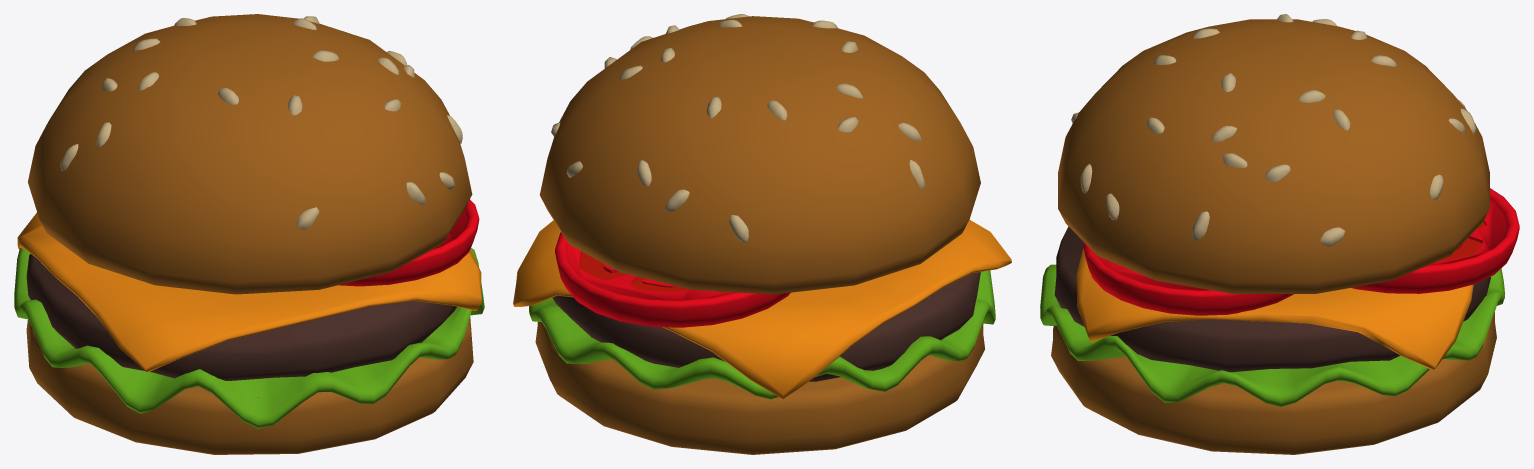
File: full_burg.fbx
The picture shows the model from 3 angles, left to right: view 1: azimuth 30°, elevation 25°; view 2: azimuth 150°, elevation 25°; view 3: azimuth 270°, elevation 25°; orthographic projection.
Visible parts, largest first — view 1: Sphere.001; view 2: Sphere.001; view 3: Sphere.001.
Boxes of the visible parts, x1,y1,x2,y2 form: Sphere.001: [14, 14, 484, 454]; Sphere.001: [513, 14, 1011, 454]; Sphere.001: [1040, 14, 1519, 454].
Size of the model in its own units: 40 by 29.89 by 41.27.
